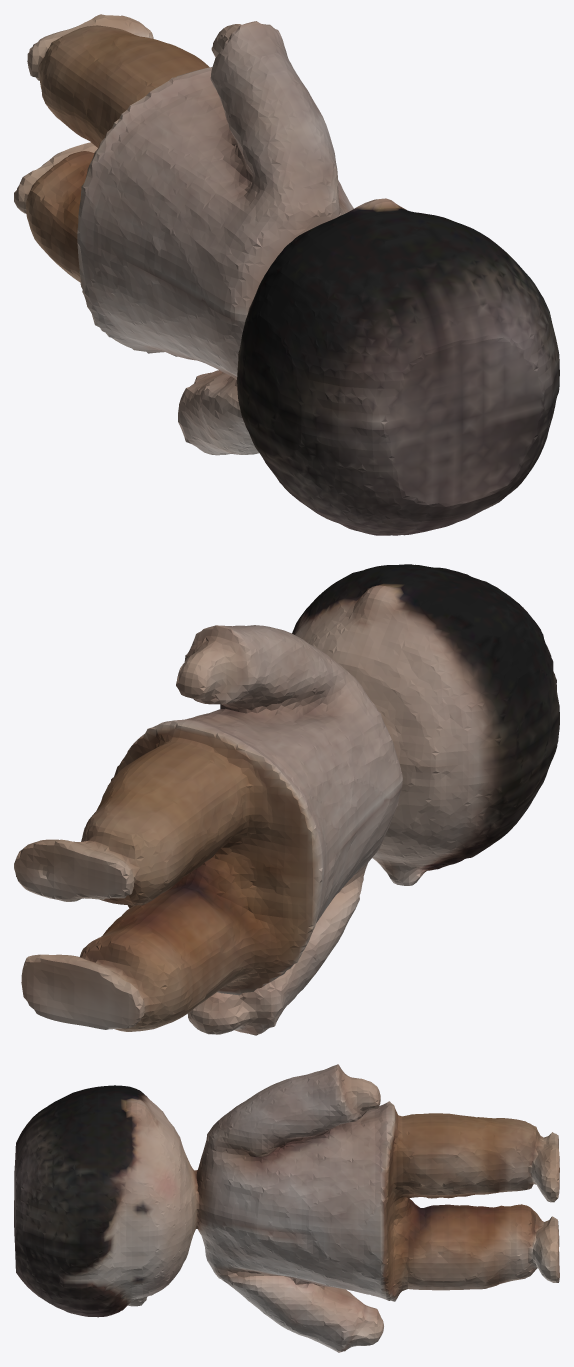
File: baby_stand_new.glb
The picture shows the model from 3 angles, top to bottom: view 1: azimuth 30°, elevation 25°; view 2: azimuth 150°, elevation 25°; view 3: azimuth 270°, elevation 25°; orthographic projection. The views are drawn at different scales.
Visible parts, largest first — view 1: baby_stand.obj; view 2: baby_stand.obj; view 3: baby_stand.obj.
Part boxes in pixels (x1,y1,x2,y2): baby_stand.obj: (14, 14, 559, 535); baby_stand.obj: (14, 564, 559, 1035); baby_stand.obj: (14, 1064, 559, 1352).
Size of the model in its own units: 0.7666 by 1.14 by 1.95.
